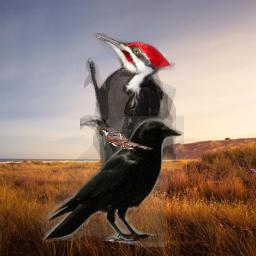Crow: (41, 116, 184, 247)
Cuckoo: (98, 126, 153, 153)
Woodpecker: (80, 33, 176, 192)
